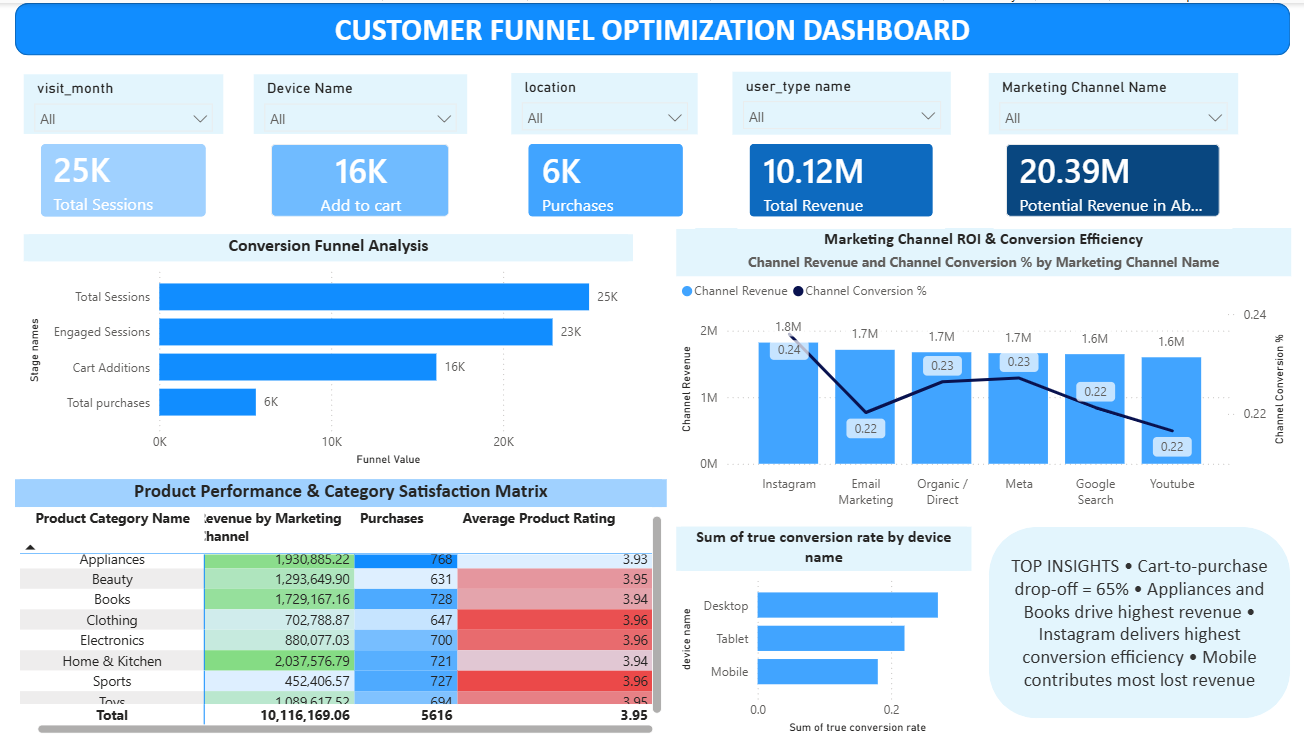

The page's visual inventory and layout, read from the dashboard file:
{"tool":"powerbi","page":{"name":"Page 1","canvas":[1280,720],"ordinal":0},"visuals":[{"type":"clusteredBarChart","title":"Conversion Funnel Analysis","fields":{"Category":["Funnel Stages.Stage names"],"Y":["Funnel Stages.Funnel Value"]},"box":[23.8,226.2,596.2,231.2],"z":0},{"type":"lineClusteredColumnComboChart","title":"Marketing Channel ROI & Conversion Efficiency","fields":{"Y":["Ecommerce.Channel Revenue"],"Y2":["Ecommerce.Channel Conversion %"],"Category":["Ecommerce.Marketing Channel Name"]},"box":[661.2,220,601.2,281.2],"z":1000},{"type":"clusteredBarChart","fields":{"Category":["device_conversion_data.device name"],"Y":["Sum(device_conversion_data.true conversion rate)"]},"box":[661.2,512.5,288.8,207.5],"z":2000},{"type":"pivotTable","title":"Product Performance & Category Satisfaction Matrix","fields":{"Values":["Ecommerce.Channel Revenue","Ecommerce.Purchases","Ecommerce.Average Product Rating"],"Rows":["Ecommerce.Product Category Name"]},"box":[15,466.2,637.5,253.8],"z":3000},{"type":"cardVisual","fields":{"Data":["Ecommerce.Total Sessions"]},"box":[23.8,121.2,195,105],"z":4000},{"type":"cardVisual","fields":{"Data":["Sum(Ecommerce.Add to cart)"]},"box":[248.8,121.2,208.8,105],"z":5000},{"type":"cardVisual","fields":{"Data":["Ecommerce.Purchases"]},"box":[500,121.2,185,105],"z":6000},{"type":"cardVisual","fields":{"Data":["Ecommerce.Total Revenue"]},"box":[716.2,121.2,213.8,105],"z":7000},{"type":"cardVisual","fields":{"Data":["Ecommerce.KPI Lost Revenue"]},"box":[967.5,121.2,243.8,105],"z":8000},{"type":"slicer","fields":{"Values":["Ecommerce.visit_month"]},"box":[23.8,70,195,58.8],"z":9000},{"type":"slicer","fields":{"Values":["Ecommerce.Device Name"]},"box":[248.8,70,208.8,58.8],"z":10000},{"type":"slicer","fields":{"Values":["Ecommerce.location"]},"box":[500,68.8,182.5,60],"z":11000},{"type":"slicer","fields":{"Values":["Ecommerce.Marketing Channel Name"]},"box":[967.5,68.8,243.8,60],"z":12000},{"type":"slicer","fields":{"Values":["Ecommerce.user_type name"]},"box":[716.2,67.5,213.8,61.2],"z":13000},{"type":"shape","box":[15,0,1247.5,51.2],"z":14000},{"type":"shape","box":[967.5,512.5,295,187.5],"z":15000}]}

Visuals, with their boxes in screenshot pixels (x1, y1, x2, y2), scaled from the page's 1280x720 canvas onto the 1304x735 screenshot:
"Conversion Funnel Analysis" clusteredBarChart: crop(24, 231, 632, 467)
"Marketing Channel ROI & Conversion Efficiency" lineClusteredColumnComboChart: crop(674, 225, 1286, 512)
clusteredBarChart - device_conversion_data.device name x Sum(device_conversion_data.true conversion rate): crop(674, 523, 968, 734)
"Product Performance & Category Satisfaction Matrix" pivotTable: crop(15, 476, 665, 734)
cardVisual - Ecommerce.Total Sessions: crop(24, 124, 223, 231)
cardVisual - Sum(Ecommerce.Add to cart): crop(253, 124, 466, 231)
cardVisual - Ecommerce.Purchases: crop(509, 124, 698, 231)
cardVisual - Ecommerce.Total Revenue: crop(730, 124, 947, 231)
cardVisual - Ecommerce.KPI Lost Revenue: crop(986, 124, 1234, 231)
slicer - Ecommerce.visit_month: crop(24, 71, 223, 131)
slicer - Ecommerce.Device Name: crop(253, 71, 466, 131)
slicer - Ecommerce.location: crop(509, 70, 695, 131)
slicer - Ecommerce.Marketing Channel Name: crop(986, 70, 1234, 131)
slicer - Ecommerce.user_type name: crop(730, 69, 947, 131)
shape: crop(15, 0, 1286, 52)
shape: crop(986, 523, 1286, 715)
